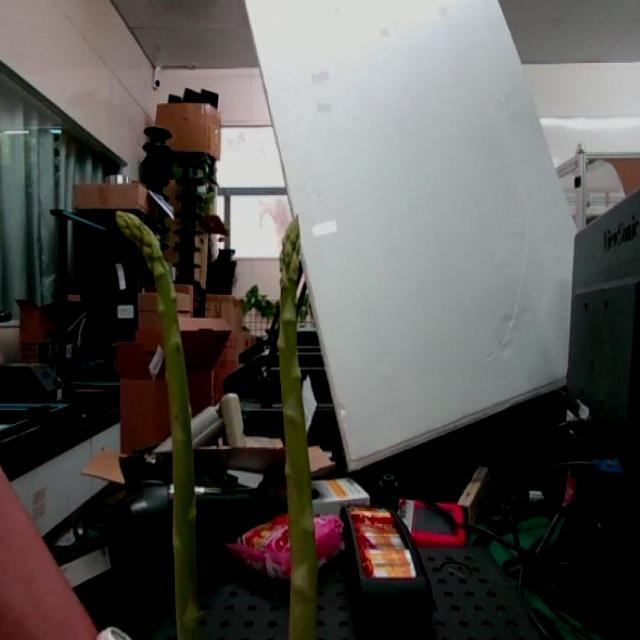aspargus: (117, 205, 199, 640), (279, 209, 320, 640)
